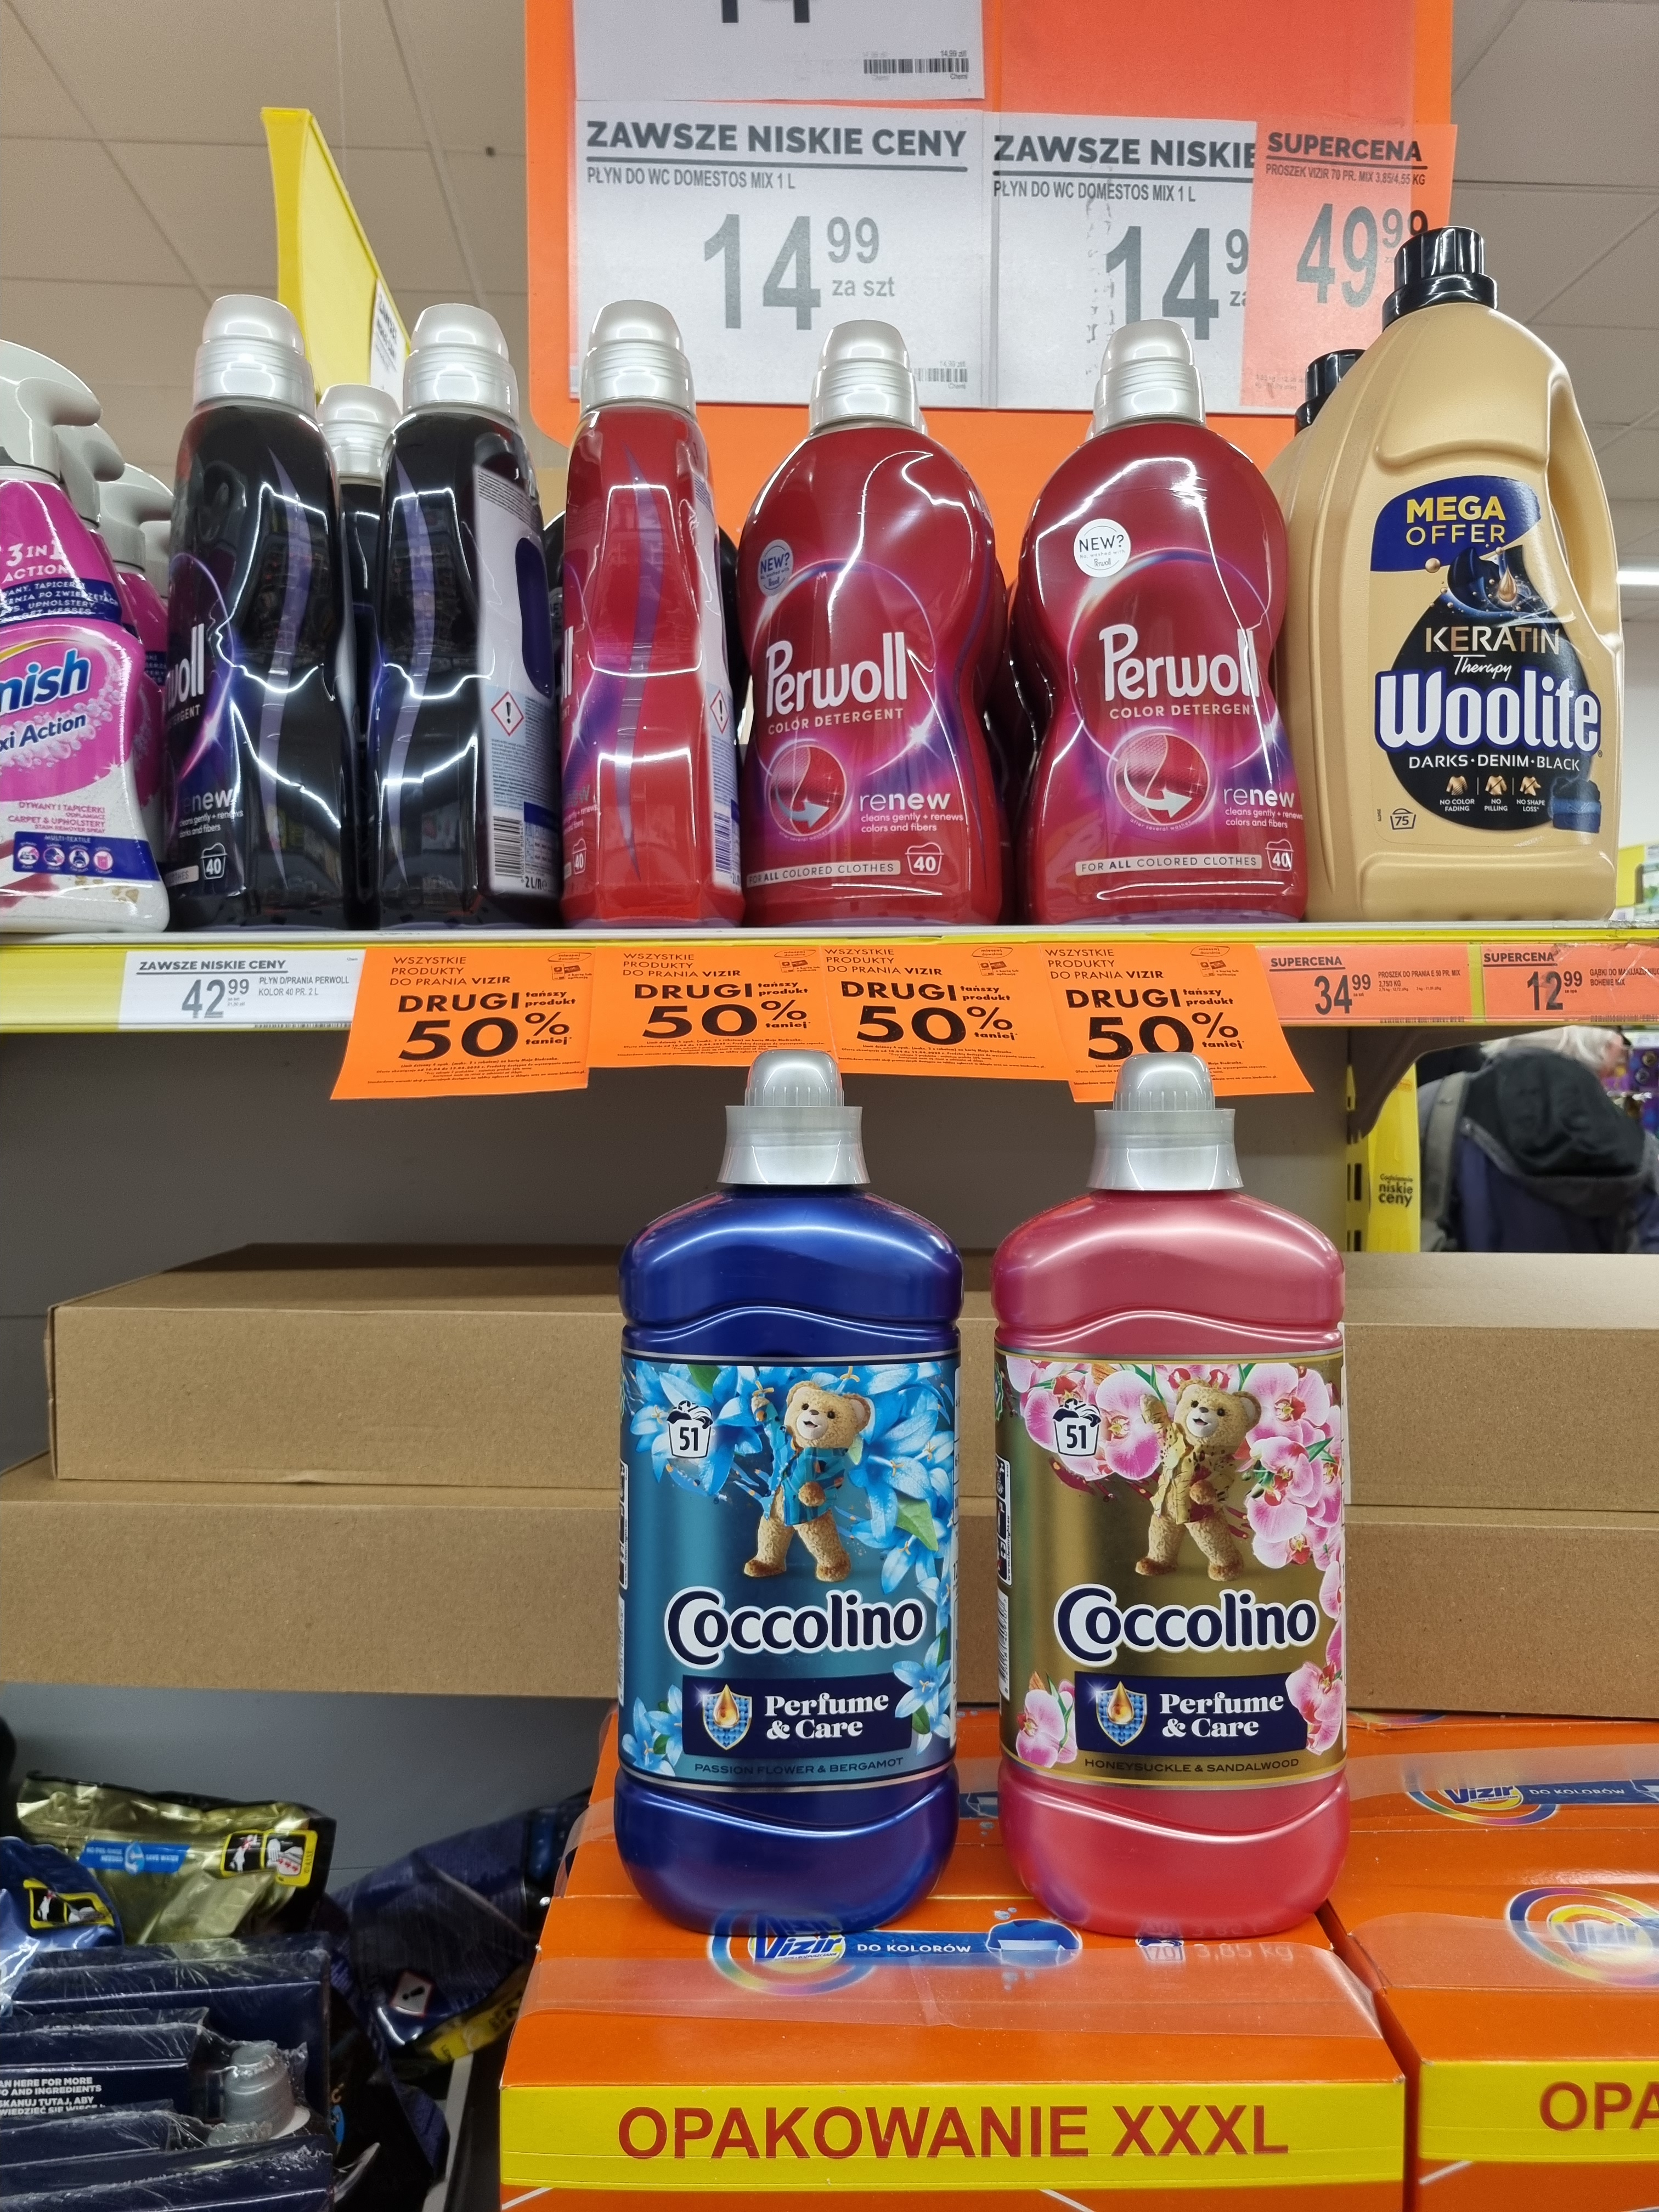cocolino: (986, 1158, 1358, 1951), (617, 1167, 960, 1940)
